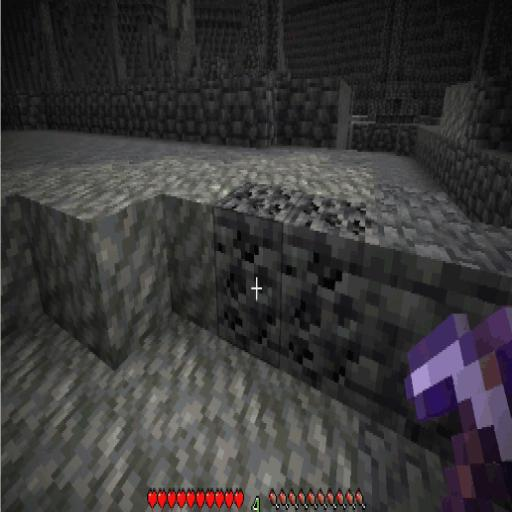coal ore: (207, 167, 371, 418)
